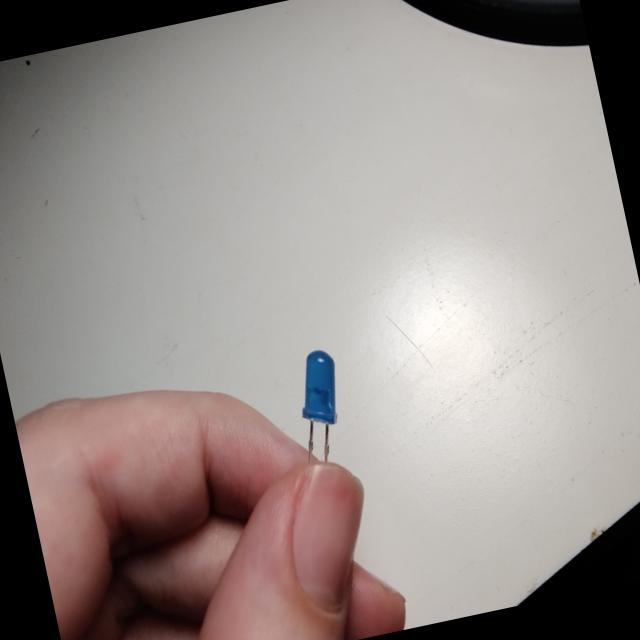blue_led: (278, 335, 360, 473)
